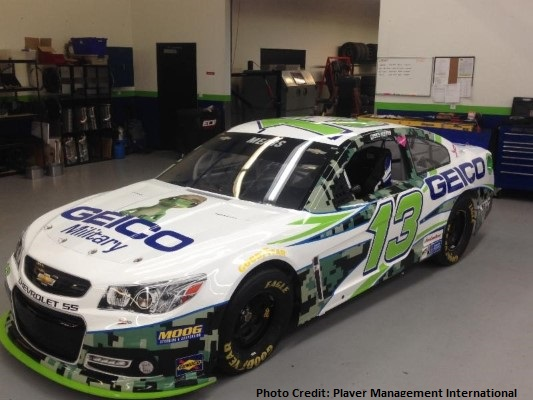Geico: (57, 198, 206, 255), (421, 162, 496, 197)
